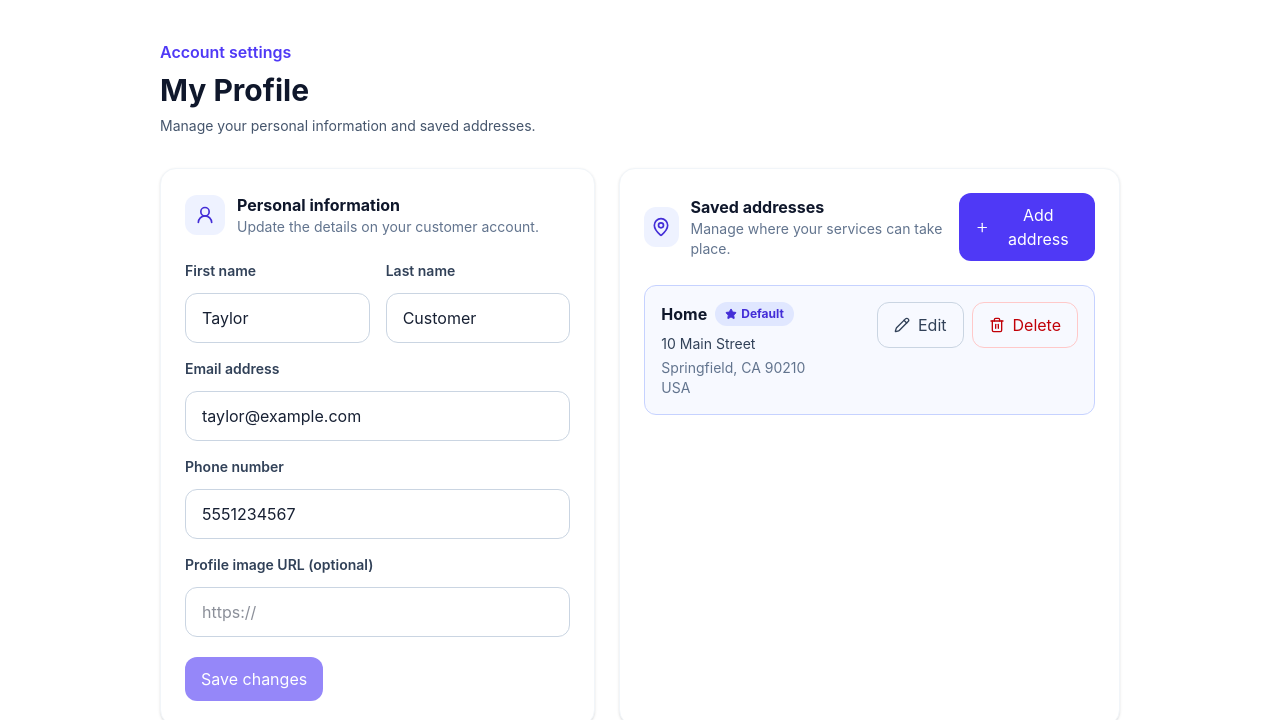
Test: CustomerProfilePage › validates profile fields and saves supported customer details
The image size is (1280, 720).
Clear the field labelled "First name" at (277,318), box [185,293,370,343]
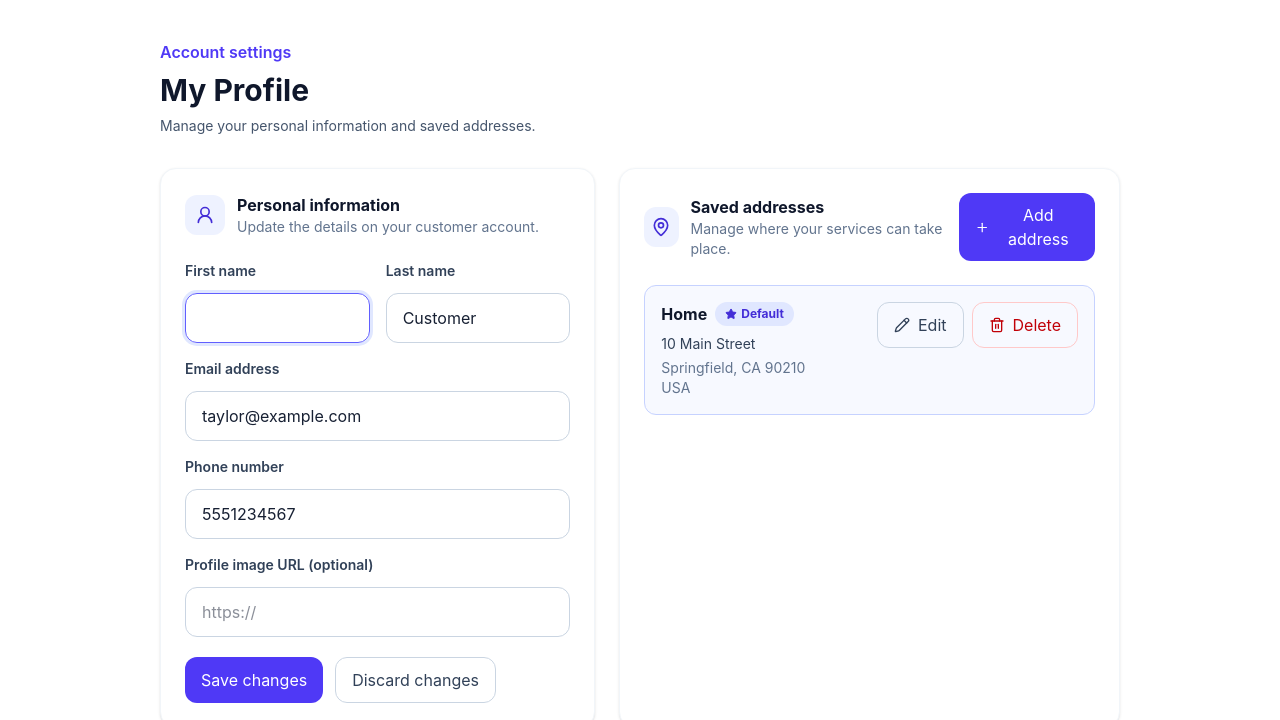
Click the button "Save changes".
click(254, 680)  # box [185,657,323,703]
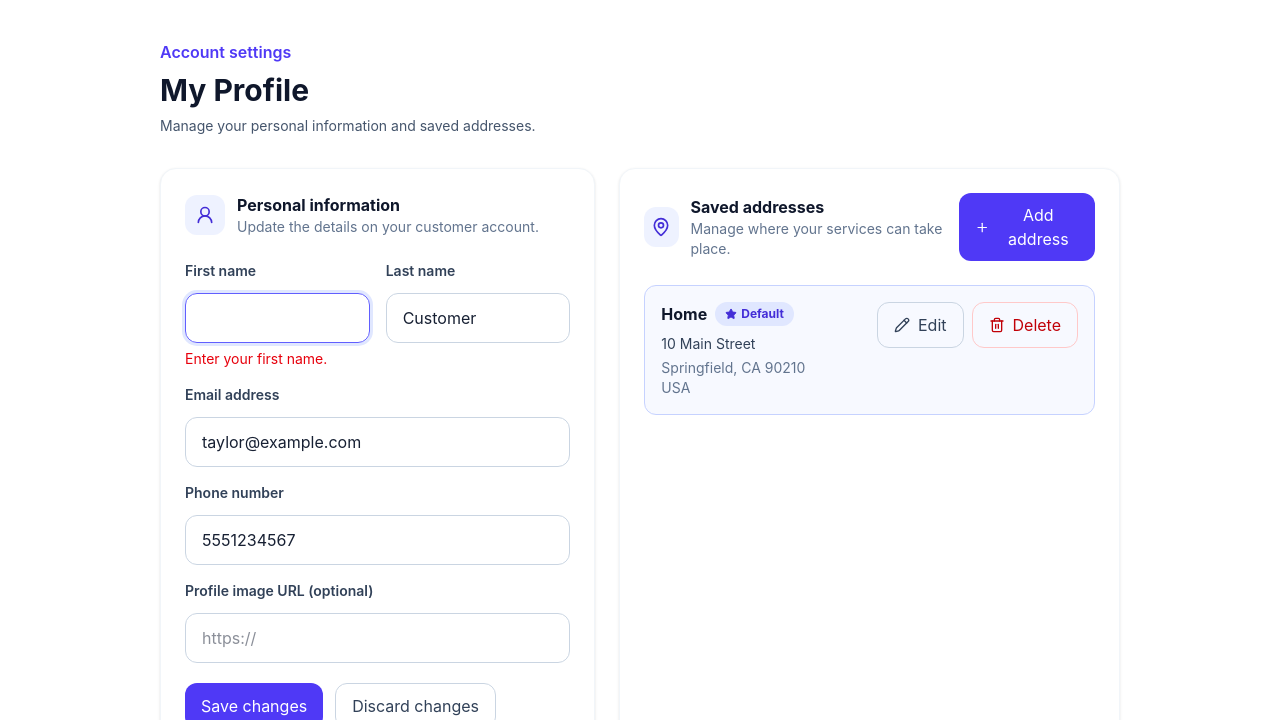
Now the text "Enter your first name." is shown, box [185,350,327,367]
Type "Jordan" into the field labelled "First name".
click(277, 318); type("Jordan")  # box [185,293,370,343]
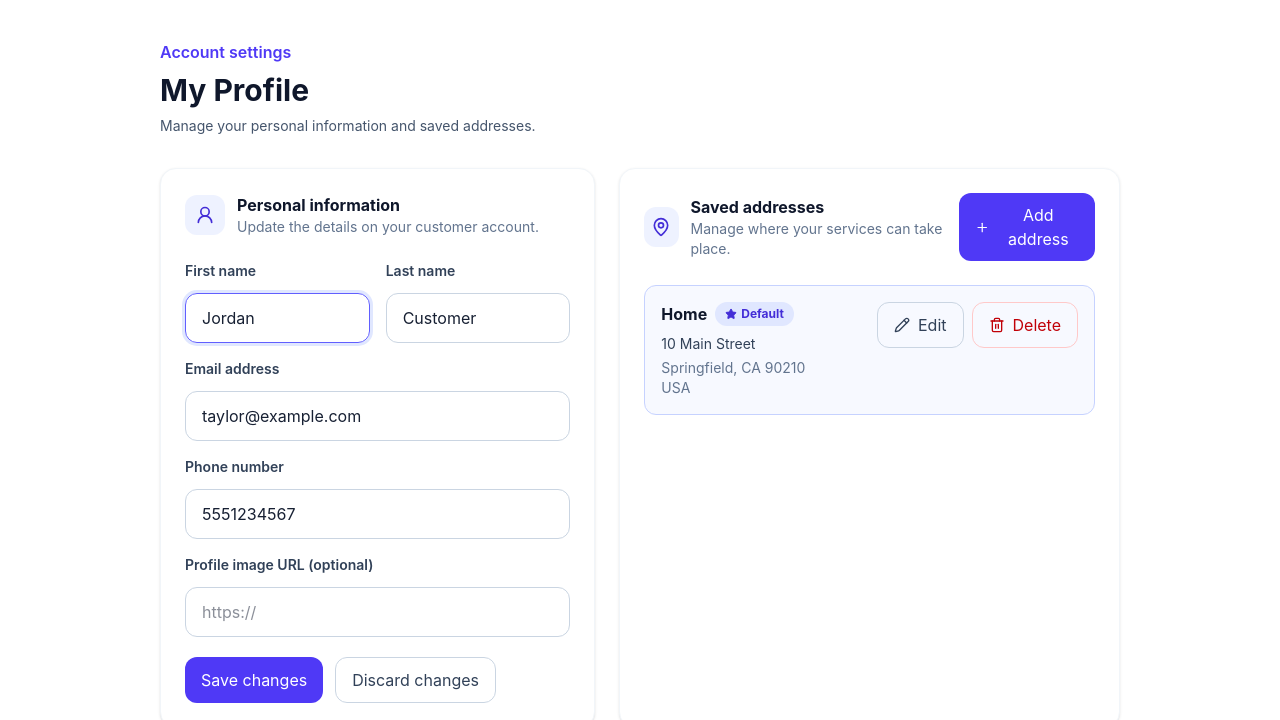
Clear the field labelled "Phone number" at (378,514), box [185,489,570,539]
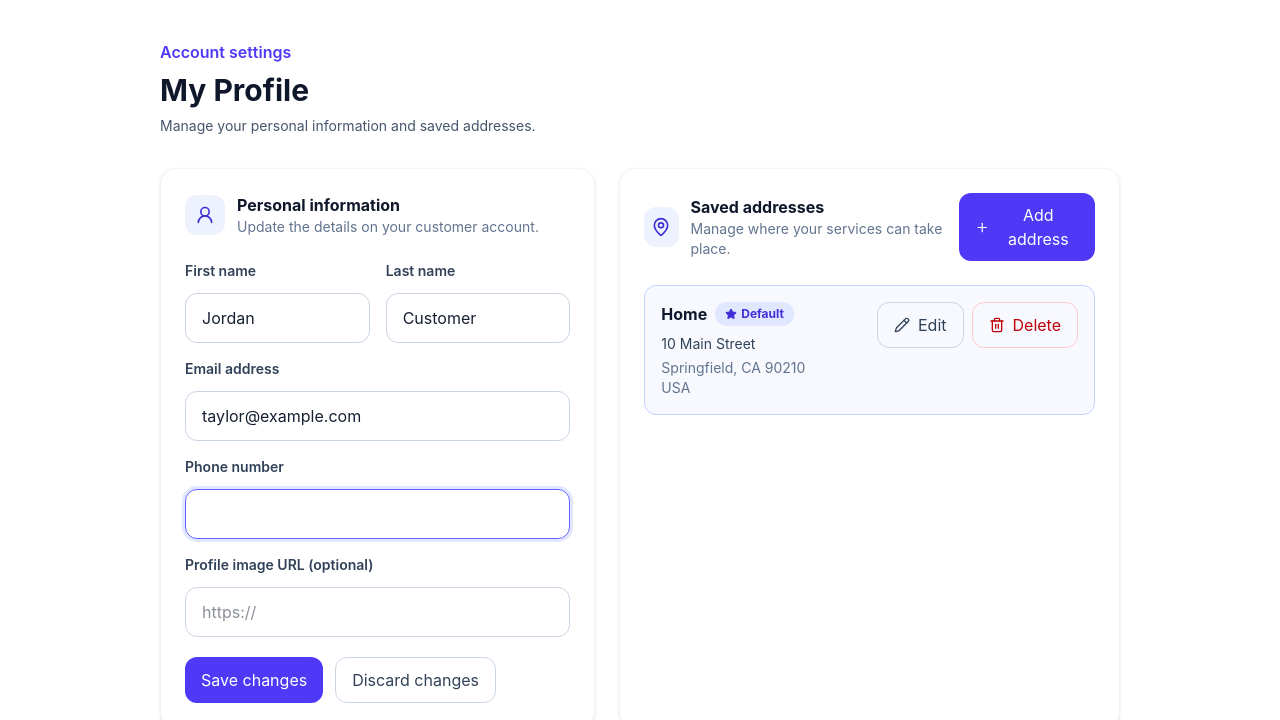
Click the button "Save changes".
click(254, 680)  # box [185,657,323,703]
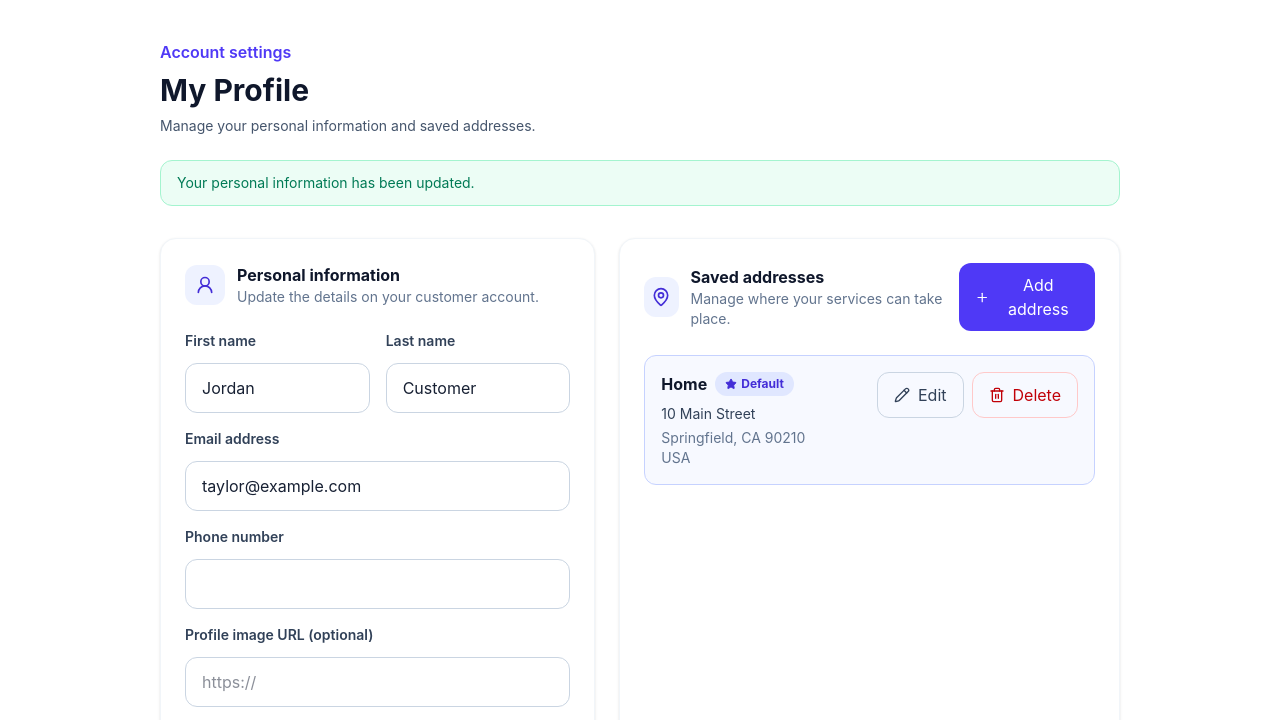
Now the message reads "Your personal information has been updated.", box [177,174,475,191]
